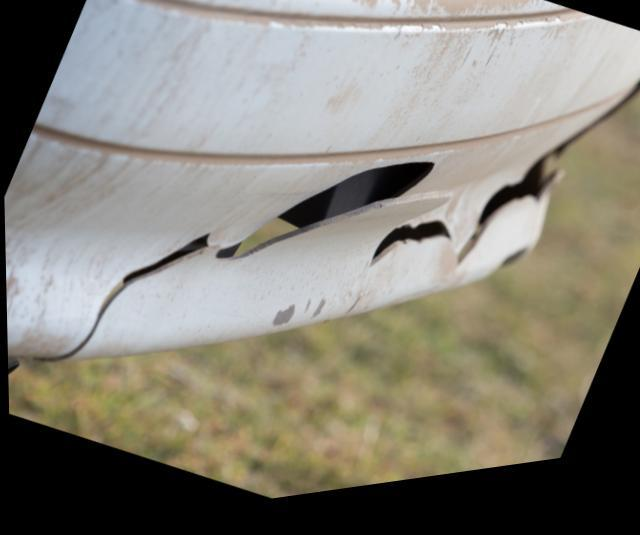crack: (32, 99, 640, 364)
